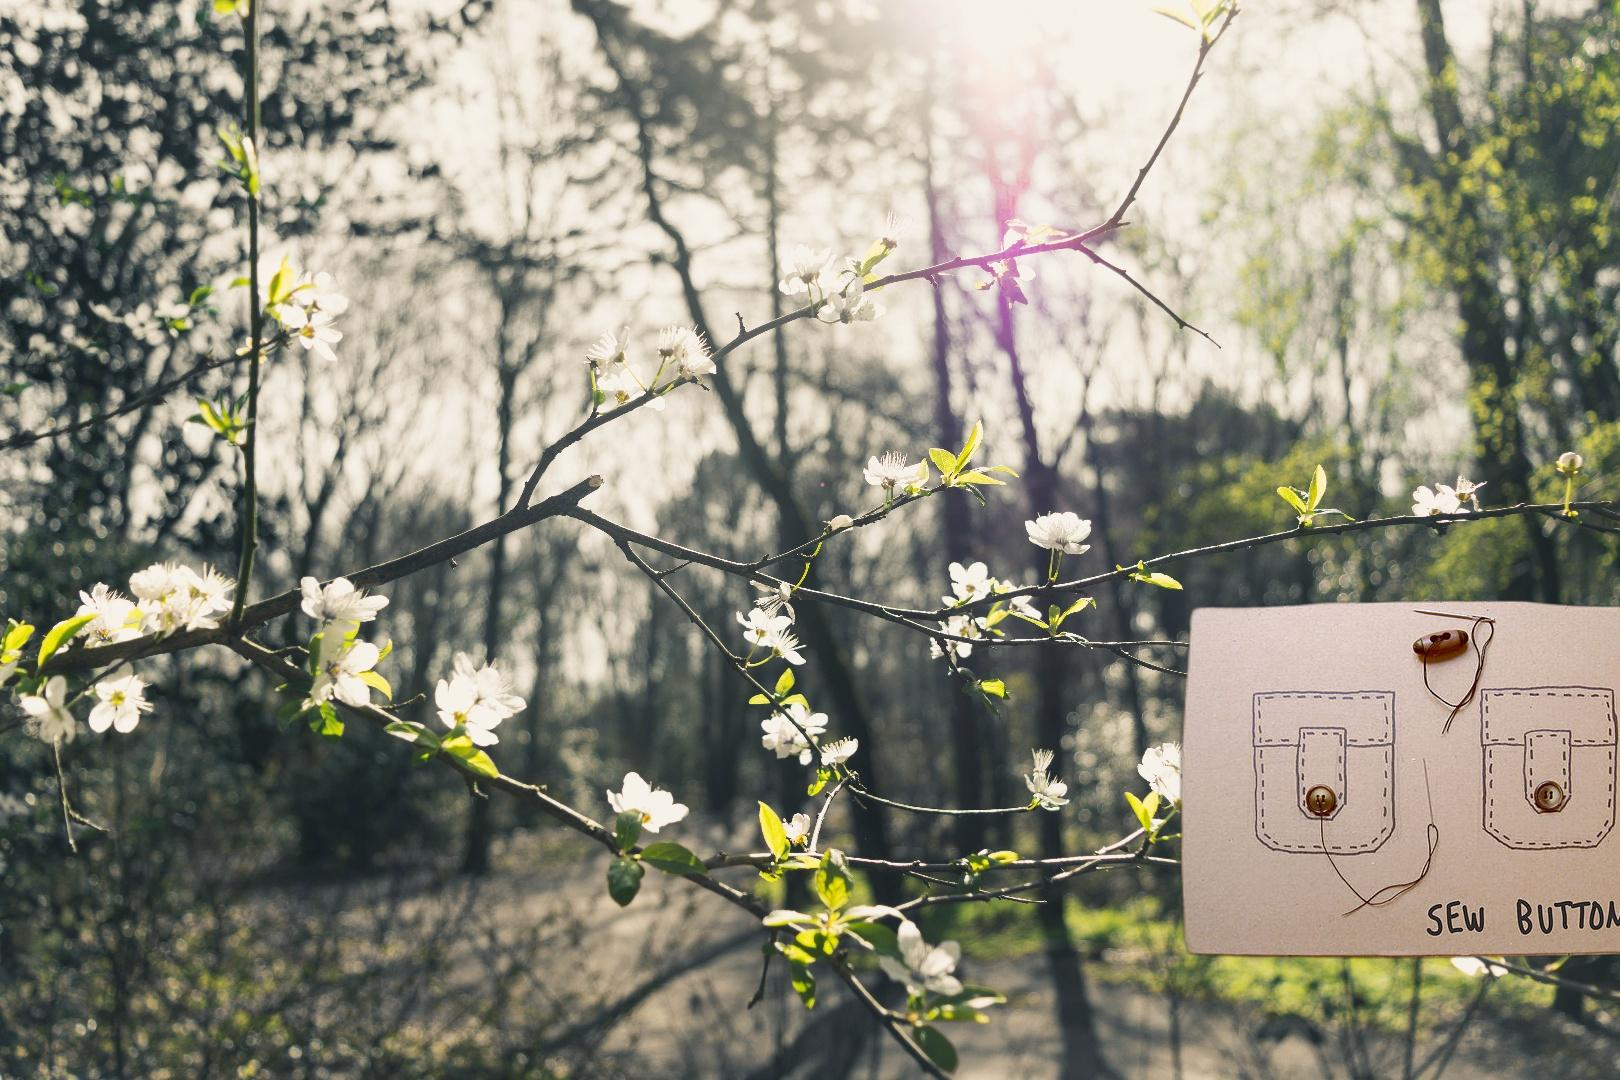trashbox-cardboard: (1174, 597, 1620, 962)
